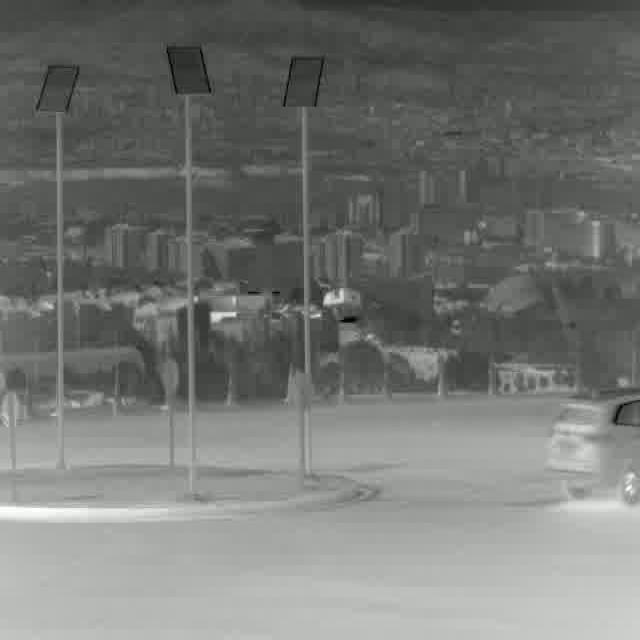Car: (547, 386, 640, 502)
